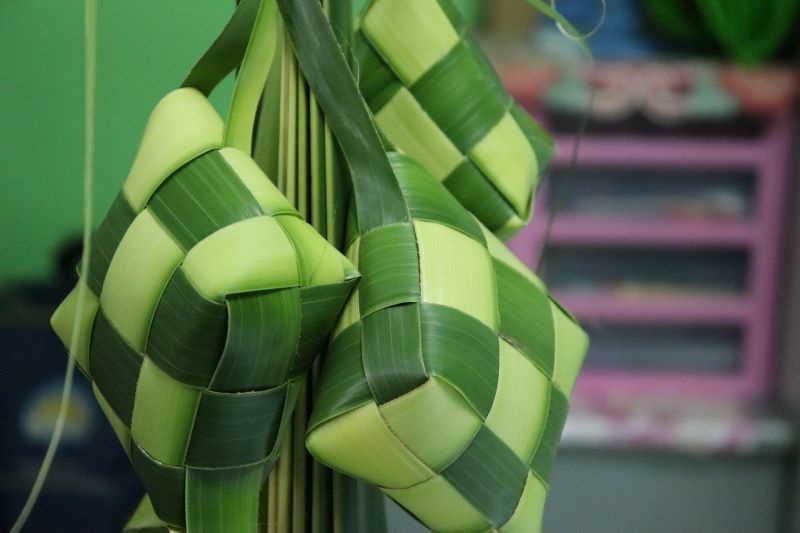ketupat: (49, 87, 362, 532), (301, 149, 590, 532)
